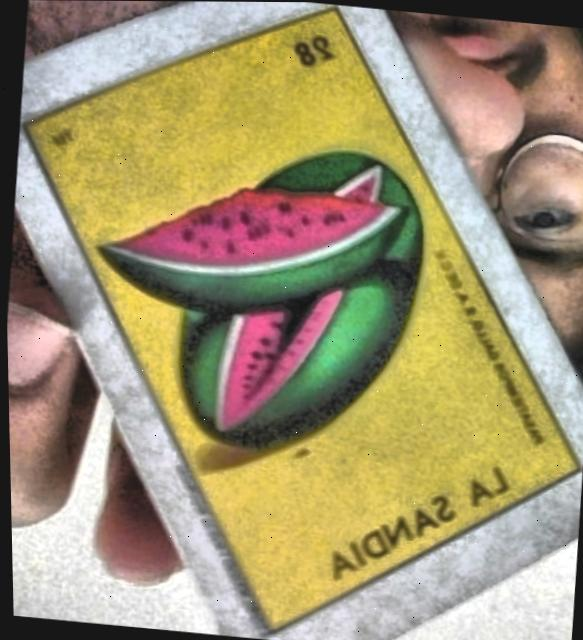La Sandia: (27, 9, 579, 629)
